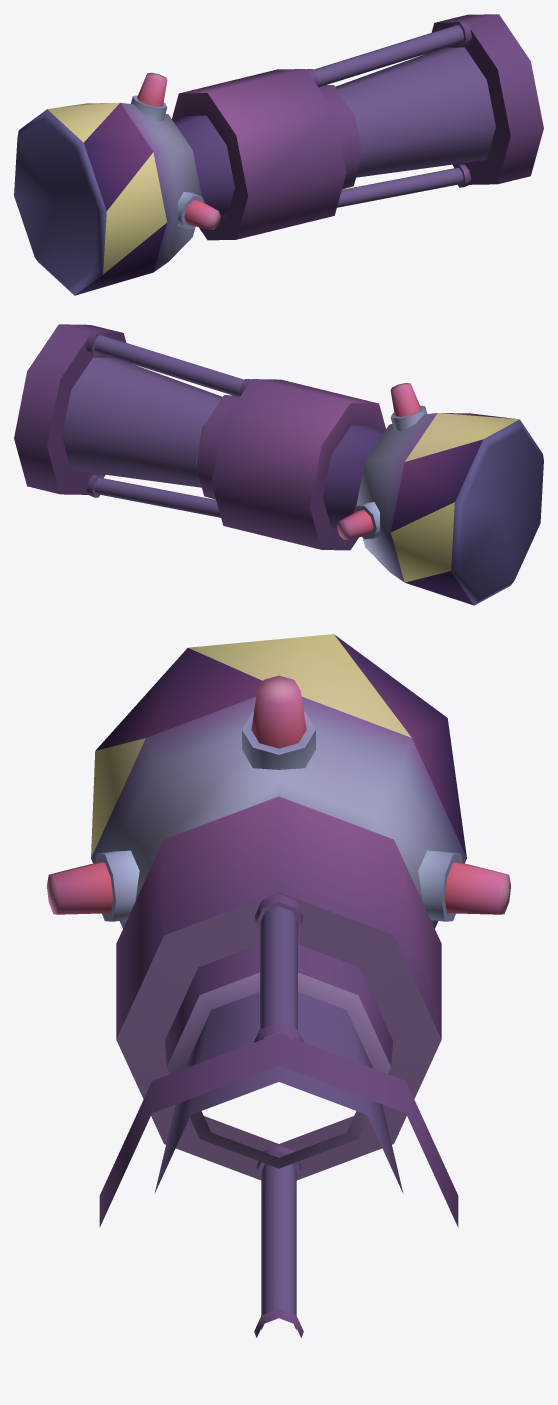
File: obstacle-small_compactor.glb
3 views of the same model, one above another, from view 1: azimuth 30°, elevation 25°; view 2: azimuth 150°, elevation 25°; view 3: azimuth 270°, elevation 25° (orthographic). The views are drawn at different scales.
Visible parts, largest first — view 1: obstacle-small_compactor; view 2: obstacle-small_compactor; view 3: obstacle-small_compactor.
Part boxes in pixels (left/top/right/bottom): obstacle-small_compactor: left=14, top=14, right=543, bottom=295; obstacle-small_compactor: left=14, top=324, right=543, bottom=605; obstacle-small_compactor: left=47, top=634, right=510, bottom=1337.
Bounding box in the file's own units: 6.26 × 2.57 × 2.84.
